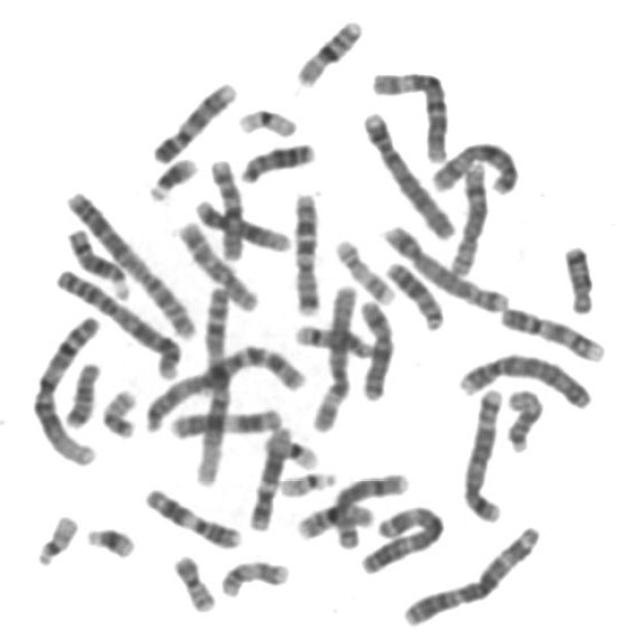A1: (24, 308, 104, 468), (190, 279, 233, 490)
A2: (59, 182, 200, 344), (48, 260, 184, 379)
A3: (395, 518, 545, 629), (353, 497, 448, 576)
B4: (354, 103, 458, 243), (449, 344, 594, 410)
B5: (376, 217, 511, 314), (456, 380, 508, 525)
C10: (170, 213, 262, 313), (200, 150, 247, 262)
C11: (136, 480, 245, 550), (163, 399, 287, 441)
C12: (187, 191, 293, 254), (242, 418, 294, 532)
C6: (303, 276, 359, 434), (365, 62, 451, 164)
C7: (197, 335, 306, 395), (285, 184, 323, 316)
C8: (325, 464, 412, 550), (442, 156, 490, 278)
C9: (145, 74, 239, 165), (493, 298, 608, 364)
D13: (378, 254, 448, 332), (232, 133, 318, 185)
D14: (59, 219, 135, 301), (288, 316, 380, 360)
D15: (135, 372, 225, 436), (500, 380, 546, 454)
E16: (289, 12, 366, 88), (289, 496, 377, 542)
E17: (328, 230, 396, 306), (213, 552, 292, 600)
E18: (58, 354, 103, 430), (556, 237, 597, 316)
F19: (230, 100, 300, 138), (270, 431, 322, 471)
F20: (166, 546, 218, 614), (94, 382, 139, 439)
G21: (140, 149, 200, 202), (78, 519, 137, 561)
G22: (28, 507, 80, 568), (273, 463, 339, 499)
X: (423, 133, 522, 197), (352, 293, 397, 402)
